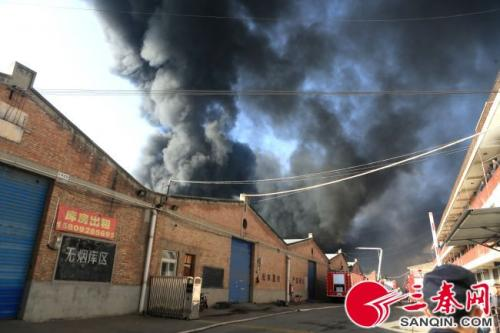smoke: (122, 11, 464, 175)
